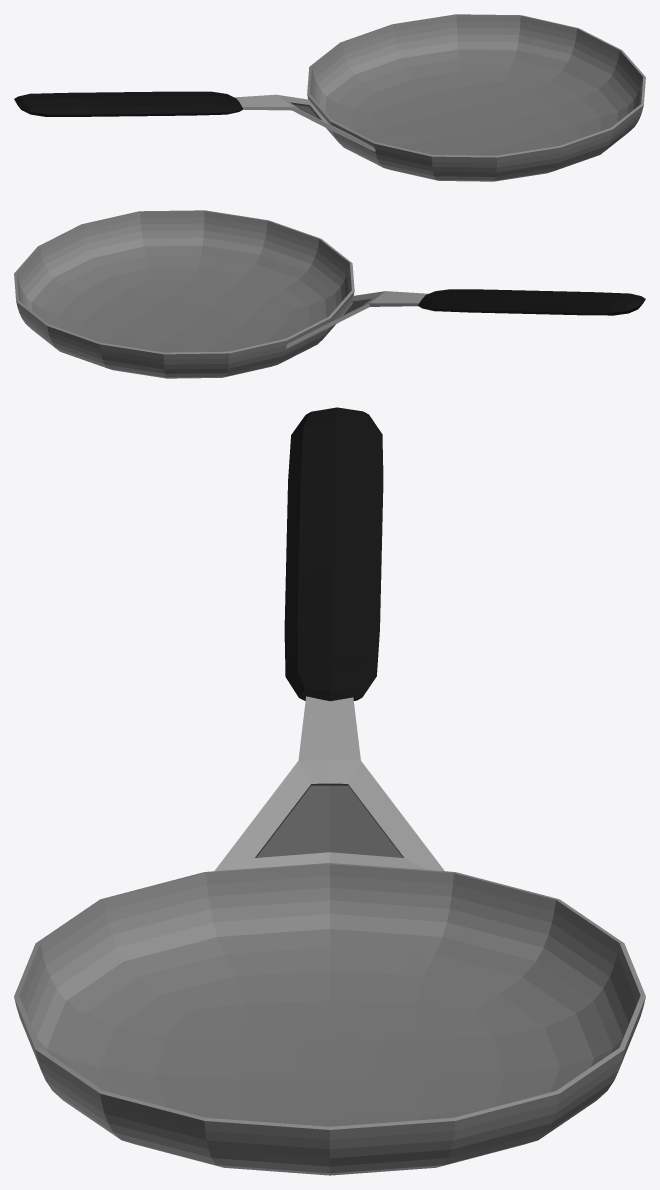
Rendered from FryingPanEvidenceModel.fbx.
3 renders of one model, top to bottom at view 1: azimuth 30°, elevation 25°; view 2: azimuth 150°, elevation 25°; view 3: azimuth 270°, elevation 25°, orthographic. The views are drawn at different scales.
Visible parts, largest first — view 1: FryingPanEvidenceModel; view 2: FryingPanEvidenceModel; view 3: FryingPanEvidenceModel.
Part boxes in pixels (x1,y1,x2,y2): FryingPanEvidenceModel: (14,14,645,181); FryingPanEvidenceModel: (14,210,645,378); FryingPanEvidenceModel: (14,407,645,1175).
Size of the model in its own units: 102 by 22.79 by 49.46.
